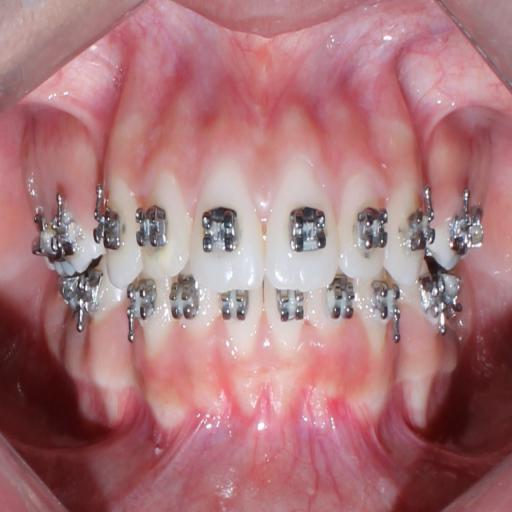correct_brace: (286, 201, 329, 259), (196, 203, 240, 259), (353, 201, 391, 254), (134, 199, 170, 254), (406, 203, 438, 255), (96, 206, 122, 251)
incorrect_brace: (134, 163, 188, 283), (338, 174, 392, 285)
